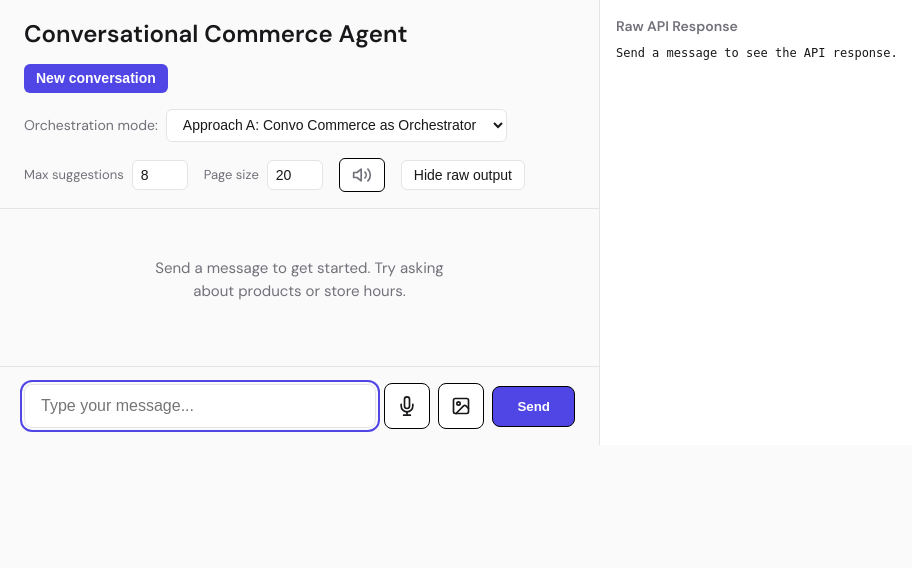
Test case: ChatInterface › displays error message when API fails
Type "hi" into the field named "Chat message" at (200, 406), box [24, 384, 376, 428]
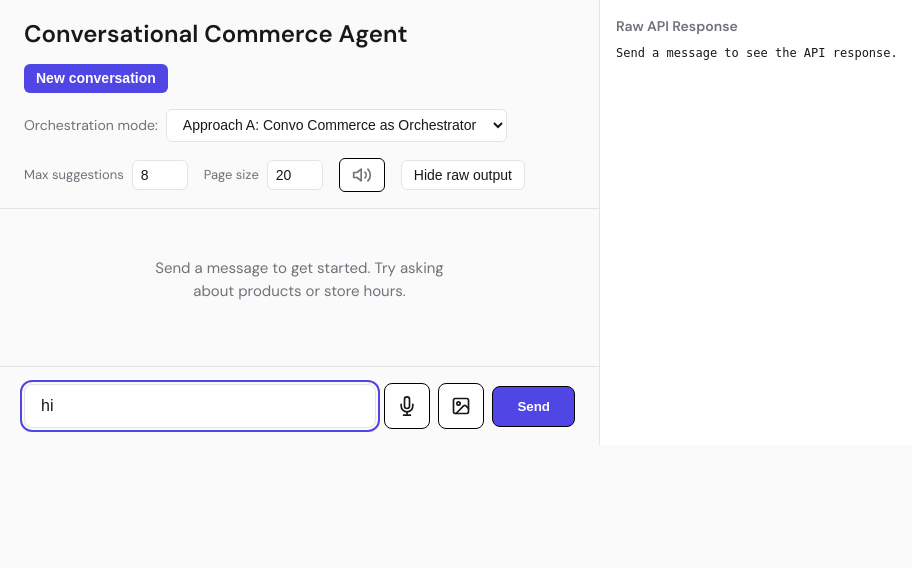
Click the button with aria-label "Send message" at (534, 406), box [492, 386, 575, 427]
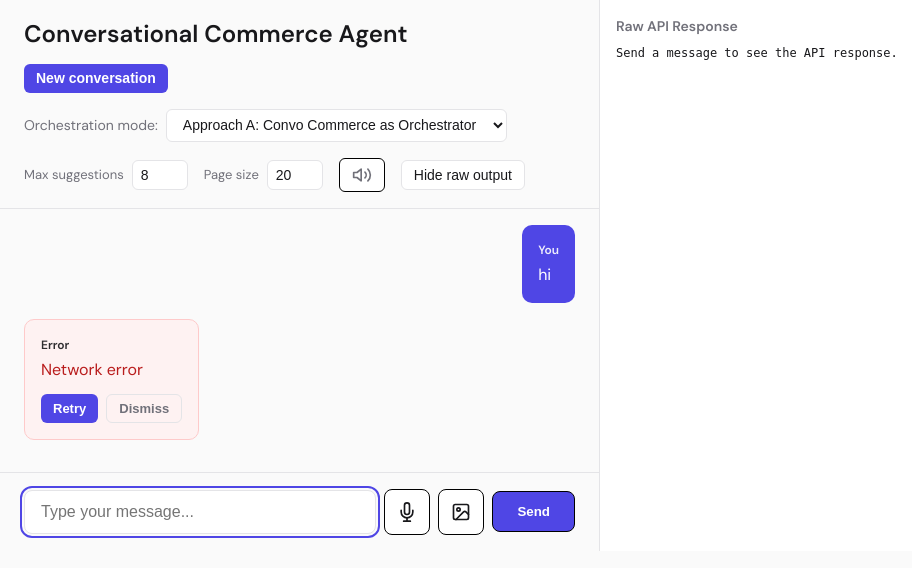
Result: the text "Network error" is shown at [41, 359, 143, 380]
